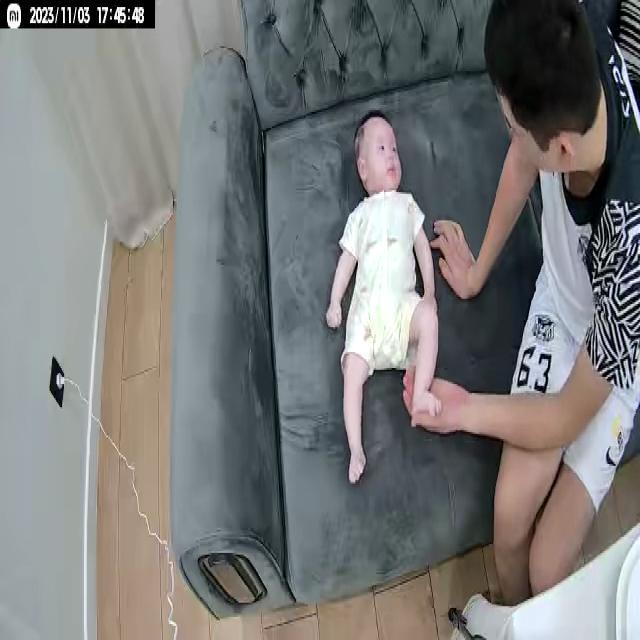baby: (324, 108, 446, 484)
